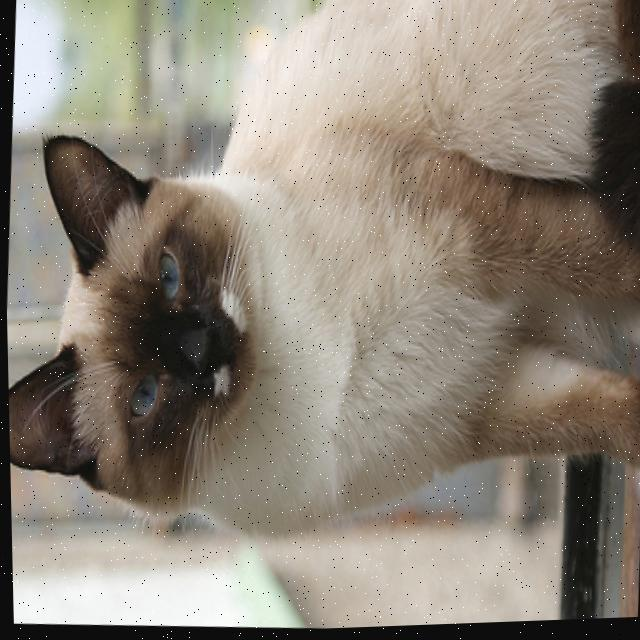Siamese: (0, 0, 640, 582)
